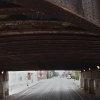Bridge: (7, 2, 94, 77)
